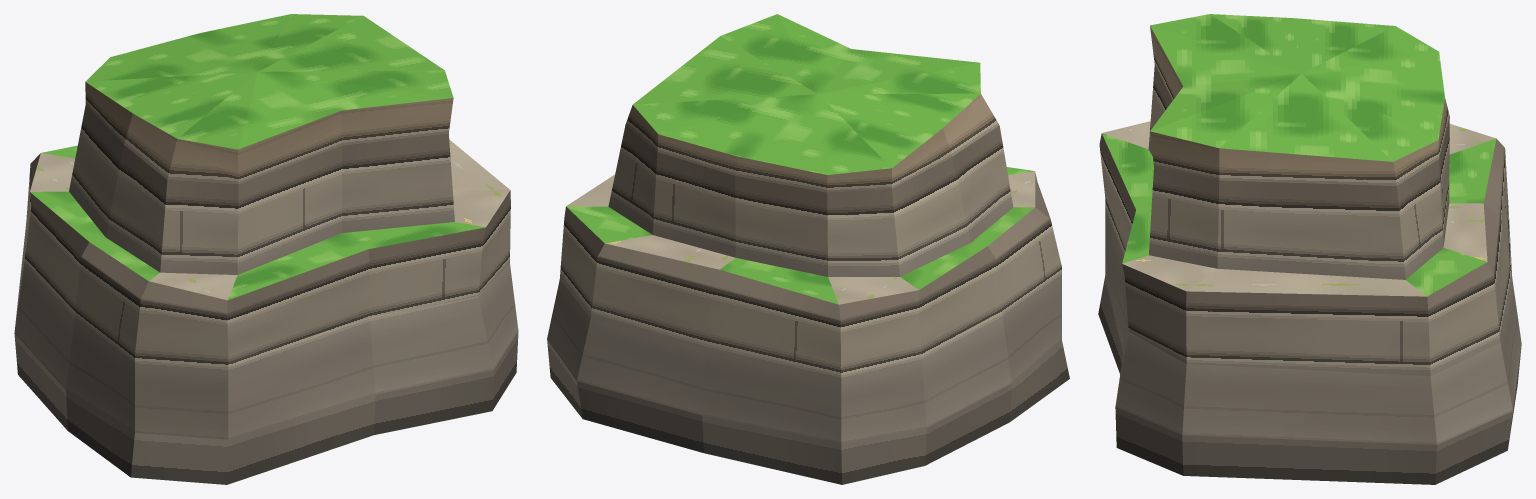
File: p_bi_boulder_l.glb
The picture shows the model from 3 angles, left to right: view 1: azimuth 30°, elevation 25°; view 2: azimuth 150°, elevation 25°; view 3: azimuth 270°, elevation 25°; orthographic projection. The views are drawn at different scales.
Parts seen in each view (by area): view 1: p_bi_boulder_l_lod0; view 2: p_bi_boulder_l_lod0; view 3: p_bi_boulder_l_lod0.
Boxes of the visible parts, <box> form: p_bi_boulder_l_lod0: <box>14,14,518,484</box>; p_bi_boulder_l_lod0: <box>547,14,1069,484</box>; p_bi_boulder_l_lod0: <box>1098,14,1521,484</box>.
Size of what is drawn, in the model's own units: 5.29 by 3.7 by 4.63.
1 material, 1 textured.
